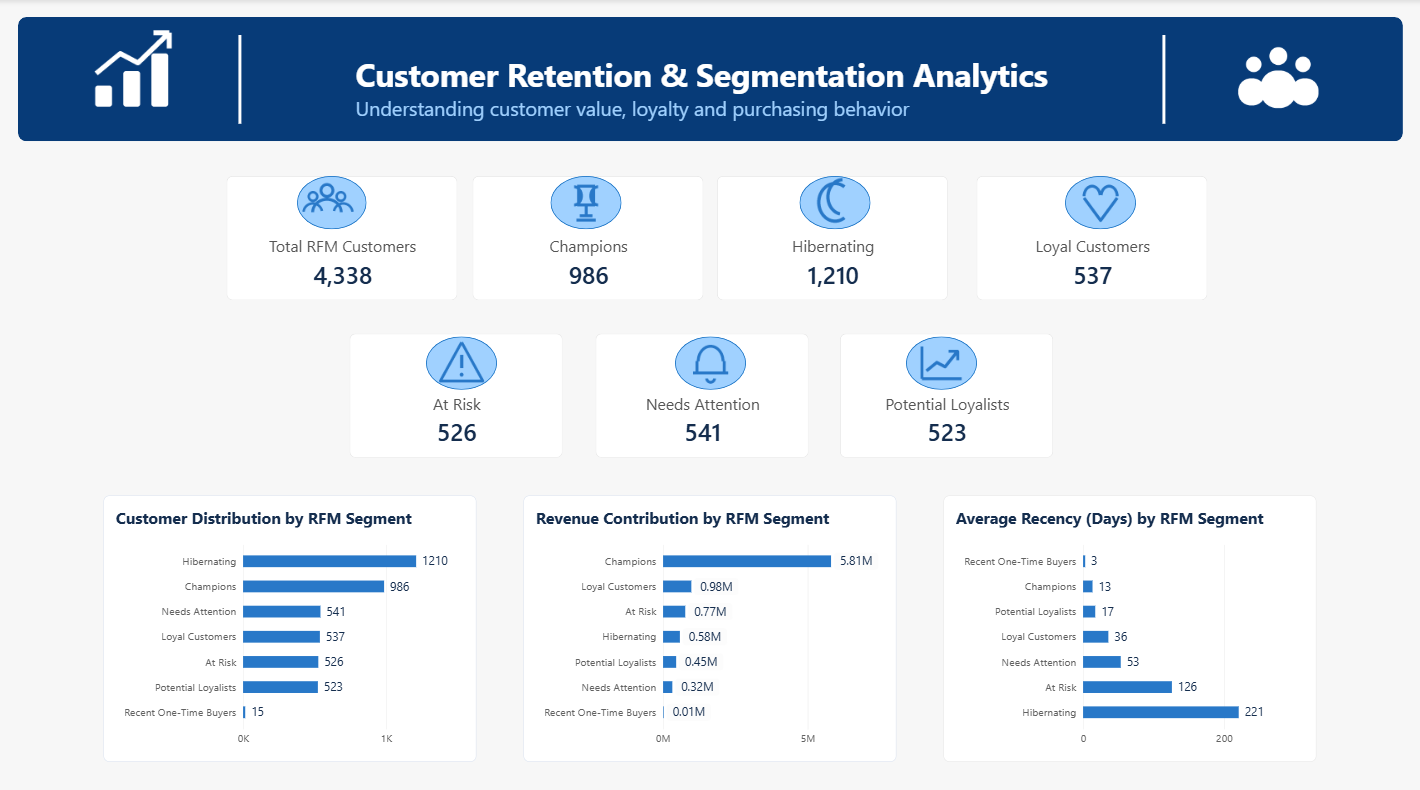

The dashboard page shown, as its layout file describes it:
{"tool":"powerbi","page":{"name":"RFM Customer Segmentation","canvas":[1920,1080],"ordinal":1},"visuals":[{"type":"group","id":"g1","title":"Group 6","box":[24,24,1872,168],"z":0},{"type":"cardVisual","fields":{"Data":["RFM_Summary.Total RFM Customers Display"]},"box":[306,240,312,168],"z":1,"group":"g2"},{"type":"shape","box":[402,240,94,72],"z":8,"group":"g2"},{"type":"cardVisual","fields":{"Data":["RFM_Summary.Champions Customers"]},"box":[638,240,312,168],"z":1000},{"type":"cardVisual","fields":{"Data":["Customer Type.Hibernating Customers Display"]},"box":[970,240,312,168],"z":2000},{"type":"cardVisual","fields":{"Data":["Customer Type.Loyal Customers"]},"box":[1320,240,312,168],"z":3000},{"type":"cardVisual","fields":{"Data":["Customer Type.At Risk Customers"]},"box":[472,452,288,168],"z":4000},{"type":"cardVisual","fields":{"Data":["Customer Type.Needs Attention Customers"]},"box":[804,452,288,168],"z":5000},{"type":"cardVisual","fields":{"Data":["Customer Type.Potential Loyalists"]},"box":[1136,452,288,168],"z":6000},{"type":"group","id":"g2","title":"Group 1","box":[306,240,312,168],"z":7000},{"type":"shape","box":[24,24,1872,168],"z":8000,"group":"g1"},{"type":"shape","box":[744,240,96,72],"z":8000},{"type":"textbox","box":[480,72,1368,120],"z":9000,"group":"g1"},{"type":"shape","box":[1080,240,96,72],"z":9000},{"type":"image","box":[1608,48,240,120],"z":9125,"group":"g1"},{"type":"image","box":[72,24,216,144],"z":9187,"group":"g1"},{"type":"shape","box":[168,48,312,120],"z":9250,"group":"g1"},{"type":"shape","box":[1416,48,312,120],"z":9500,"group":"g1"},{"type":"shape","box":[1440,240,96,72],"z":10000},{"type":"shape","box":[1224,456,96,72],"z":11000},{"type":"shape","box":[912,456,96,72],"z":12000},{"type":"shape","box":[576,456,96,72],"z":13000},{"type":"image","box":[384,240,120,72],"z":14000},{"type":"image","box":[744,240,96,72],"z":15000},{"type":"image","box":[1080,240,96,72],"z":16000},{"type":"image","box":[1440,240,96,72],"z":17000},{"type":"image","box":[576,456,96,72],"z":18000},{"type":"image","box":[912,456,96,72],"z":19000},{"type":"image","box":[1224,456,96,72],"z":20000},{"type":"clusteredBarChart","title":"Customer Distribution by RFM Segment","fields":{"Category":["RFM_Summary.RFM Segment"],"Y":["Sum(RFM_Summary.Customer Count)"]},"box":[140,672,504,360],"z":21000},{"type":"clusteredBarChart","title":"Revenue Contribution by RFM Segment","fields":{"Category":["Customer_RFM.customer_segment"],"Y":["Customer_RFM.RFM Segment Revenue"]},"box":[708,672,504,360],"z":22000},{"type":"clusteredBarChart","title":"Average Recency (Days) by RFM Segment","fields":{"Category":["Customer_RFM.customer_segment"],"Y":["Customer Type.Average Recency"]},"box":[1276,672,504,360],"z":23000}]}

Visuals, with their boxes in screenshot pixels (x1, y1, x2, y2), scaled from the page's 1920x1080 canvas onto the 1420x790 screenshot:
"Group 6" group: (left=18, top=18, right=1402, bottom=140)
cardVisual - RFM_Summary.Total RFM Customers Display: (left=226, top=176, right=457, bottom=298)
shape: (left=297, top=176, right=367, bottom=228)
cardVisual - RFM_Summary.Champions Customers: (left=472, top=176, right=703, bottom=298)
cardVisual - Customer Type.Hibernating Customers Display: (left=717, top=176, right=948, bottom=298)
cardVisual - Customer Type.Loyal Customers: (left=976, top=176, right=1207, bottom=298)
cardVisual - Customer Type.At Risk Customers: (left=349, top=331, right=562, bottom=454)
cardVisual - Customer Type.Needs Attention Customers: (left=595, top=331, right=808, bottom=454)
cardVisual - Customer Type.Potential Loyalists: (left=840, top=331, right=1053, bottom=454)
"Group 1" group: (left=226, top=176, right=457, bottom=298)
shape: (left=18, top=18, right=1402, bottom=140)
shape: (left=550, top=176, right=621, bottom=228)
textbox: (left=355, top=53, right=1367, bottom=140)
shape: (left=799, top=176, right=870, bottom=228)
image: (left=1189, top=35, right=1367, bottom=123)
image: (left=53, top=18, right=213, bottom=123)
shape: (left=124, top=35, right=355, bottom=123)
shape: (left=1047, top=35, right=1278, bottom=123)
shape: (left=1065, top=176, right=1136, bottom=228)
shape: (left=905, top=334, right=976, bottom=386)
shape: (left=674, top=334, right=746, bottom=386)
shape: (left=426, top=334, right=497, bottom=386)
image: (left=284, top=176, right=373, bottom=228)
image: (left=550, top=176, right=621, bottom=228)
image: (left=799, top=176, right=870, bottom=228)
image: (left=1065, top=176, right=1136, bottom=228)
image: (left=426, top=334, right=497, bottom=386)
image: (left=674, top=334, right=746, bottom=386)
image: (left=905, top=334, right=976, bottom=386)
"Customer Distribution by RFM Segment" clusteredBarChart: (left=104, top=492, right=476, bottom=755)
"Revenue Contribution by RFM Segment" clusteredBarChart: (left=524, top=492, right=896, bottom=755)
"Average Recency (Days) by RFM Segment" clusteredBarChart: (left=944, top=492, right=1316, bottom=755)
